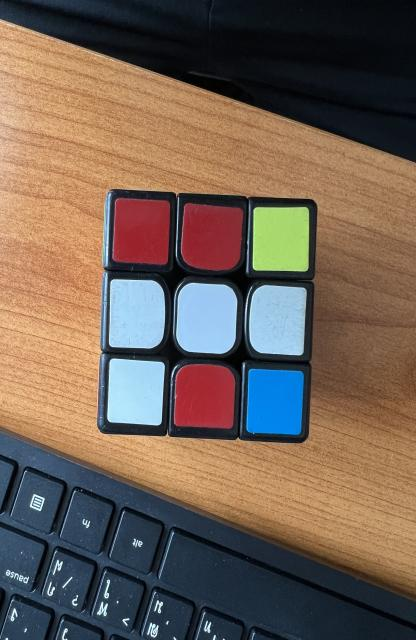Blue: (247, 369, 304, 435)
Red: (181, 202, 244, 270), (174, 364, 235, 429), (113, 198, 170, 265)
White: (176, 282, 237, 354), (249, 285, 307, 355), (109, 279, 166, 349), (107, 359, 165, 425)
Yellow: (252, 208, 309, 271)
